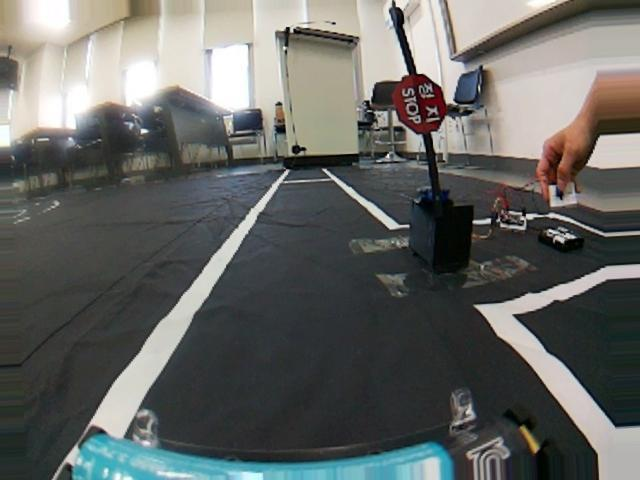sign_stop: (380, 74, 452, 132)
straight: (53, 312, 640, 476)
